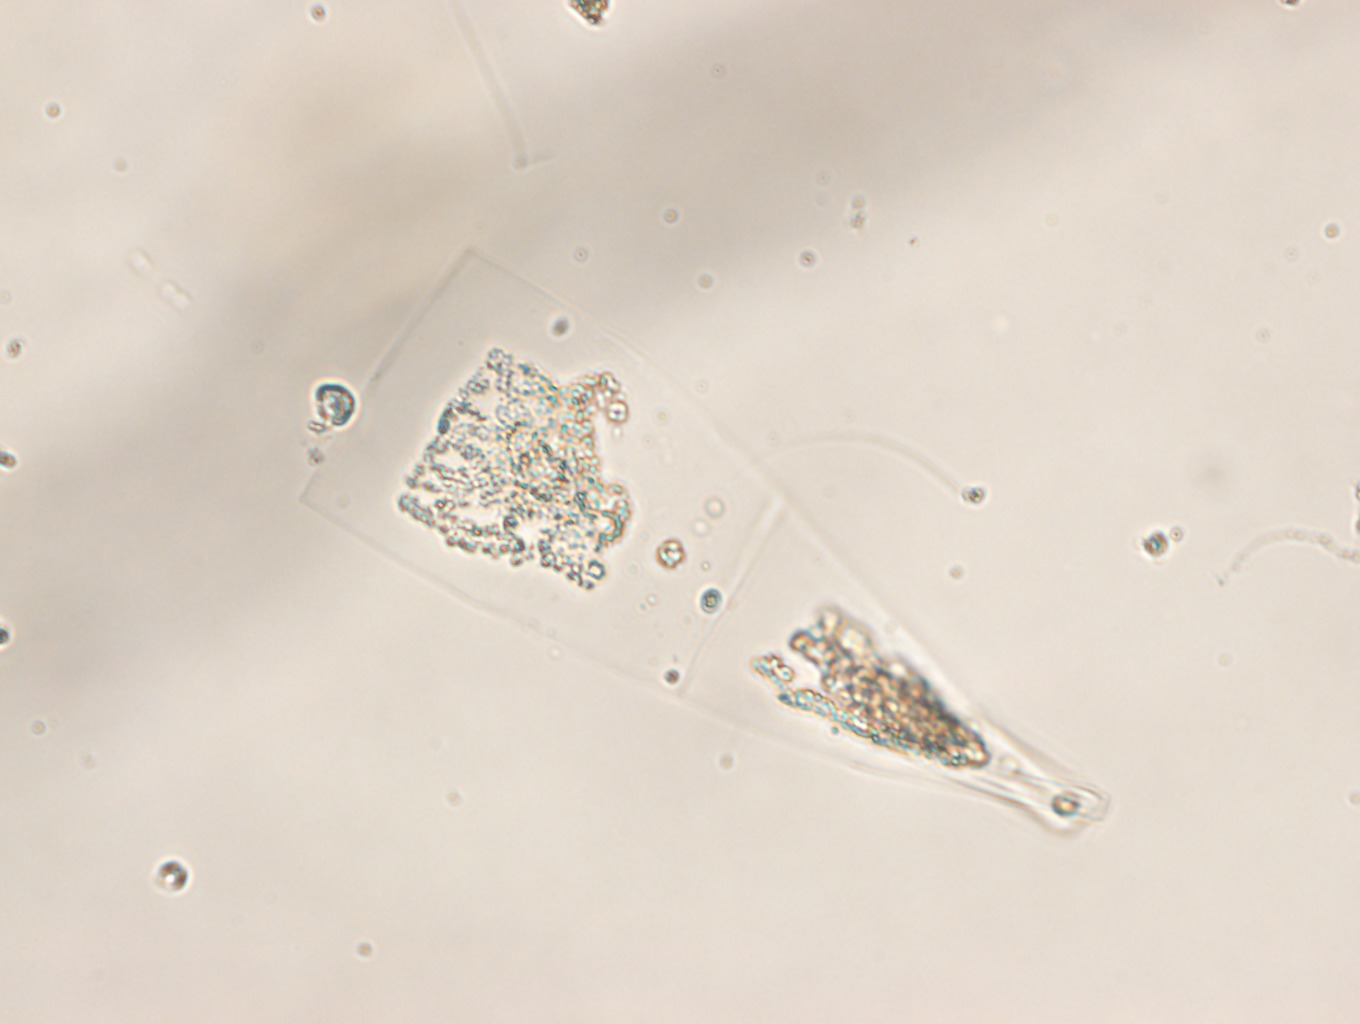helicotheca: (299, 248, 1110, 840)
